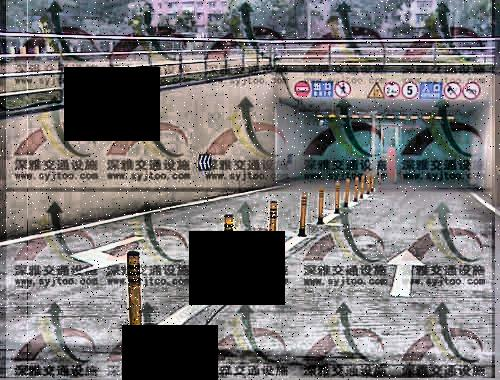bench: (120, 246, 147, 353), (220, 208, 237, 286), (265, 196, 279, 254)
